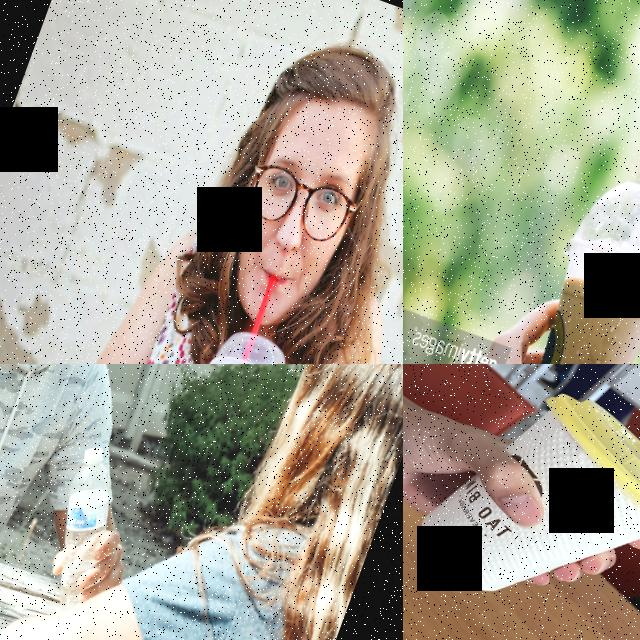bottle: (28, 441, 146, 619)
cup: (403, 364, 640, 640), (493, 169, 640, 364)
